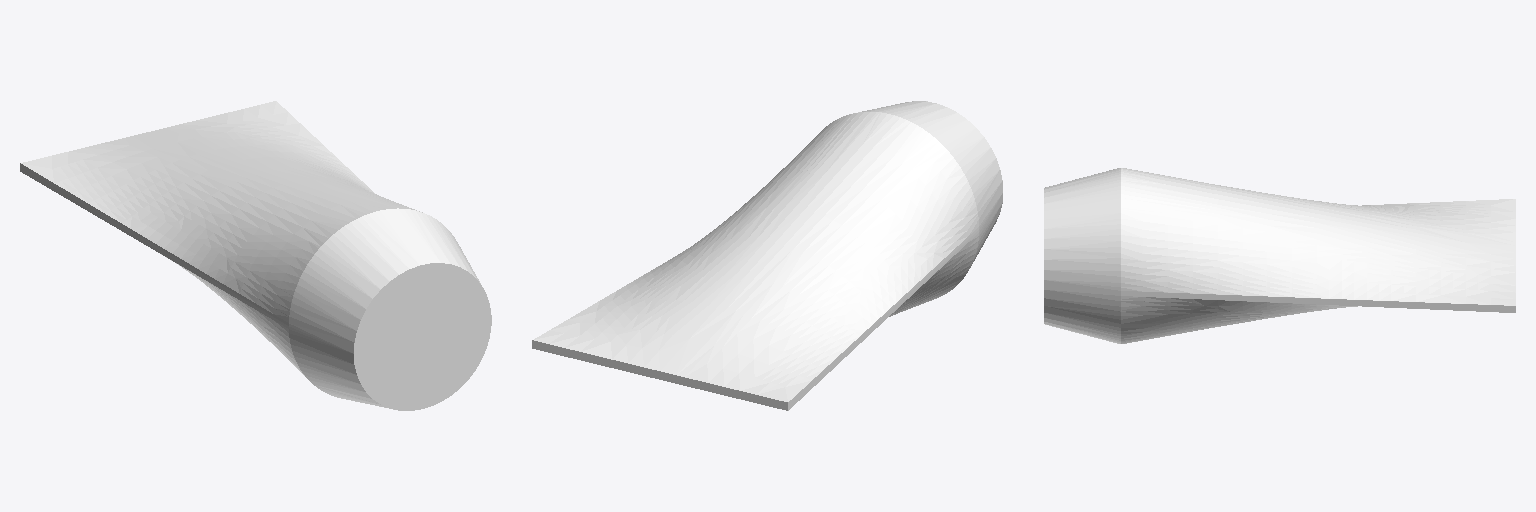
URDF robot description (tabletop):
<?xml version="1.0" ?>
<robot name="tabletop">
  <link name="base_link">

    <inertial>
      <origin rpy="0 0 0" xyz="0 0 0"/>
      <mass value="0.1" />
      <inertia ixx="1" ixy="0" ixz="0" iyy="1" iyz="0" izz="1"/>
    </inertial>
    
    <visual>
      <origin rpy="0 0 0" xyz="0 0 0"/>
      <geometry>
        <mesh filename="mesh/lotion.obj" scale="1.0 1.0 1.0"/>
      </geometry>
      <material name="tray_material">
        <color rgba="1 1 1 1"/>
      </material>
    </visual>
    <collision>
      <origin rpy="0 0 0" xyz="0 0 0"/>
      <geometry>
        <mesh filename="mesh/lotion.obj" scale="1.0 1.0 1.0"/>
      </geometry>
    </collision>
  </link>
</robot>

--- What the picture shows (computed from the rendered views, not written in the file) ---
Views: 3 orthographic renders of the robot side by side, from view 1: azimuth 30°, elevation 25°; view 2: azimuth 150°, elevation 25°; view 3: azimuth 270°, elevation 25°.
Robot: tabletop — 1 links, 0 joints (none); root link base_link; default pose: every joint at zero.
Visible links, largest first — view 1: base_link; view 2: base_link; view 3: base_link.
Link boxes in pixels (x1,y1,x2,y2): base_link: (20, 101, 491, 410); base_link: (532, 101, 1002, 410); base_link: (1044, 168, 1515, 343).
Size in the robot's own frame: 0.063 by 0.117 by 0.044 metres.
1 mesh visuals loaded from 1 distinct referenced files (1 OBJ).